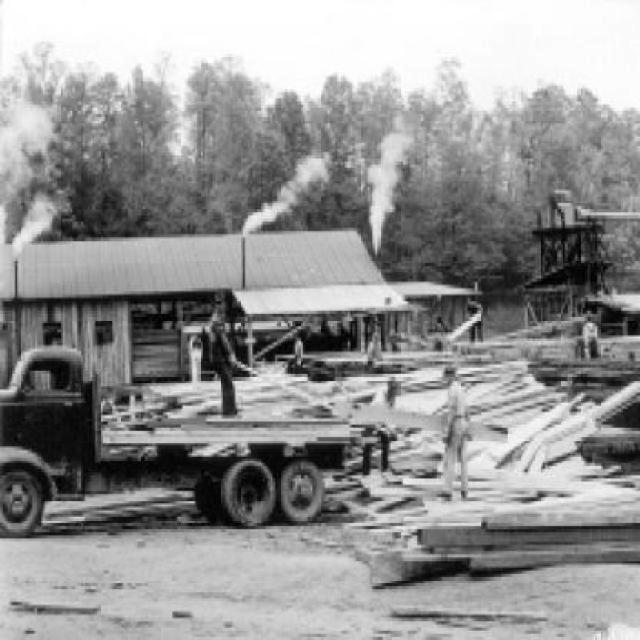Truck- Multi-Axle: (0, 307, 389, 538)
